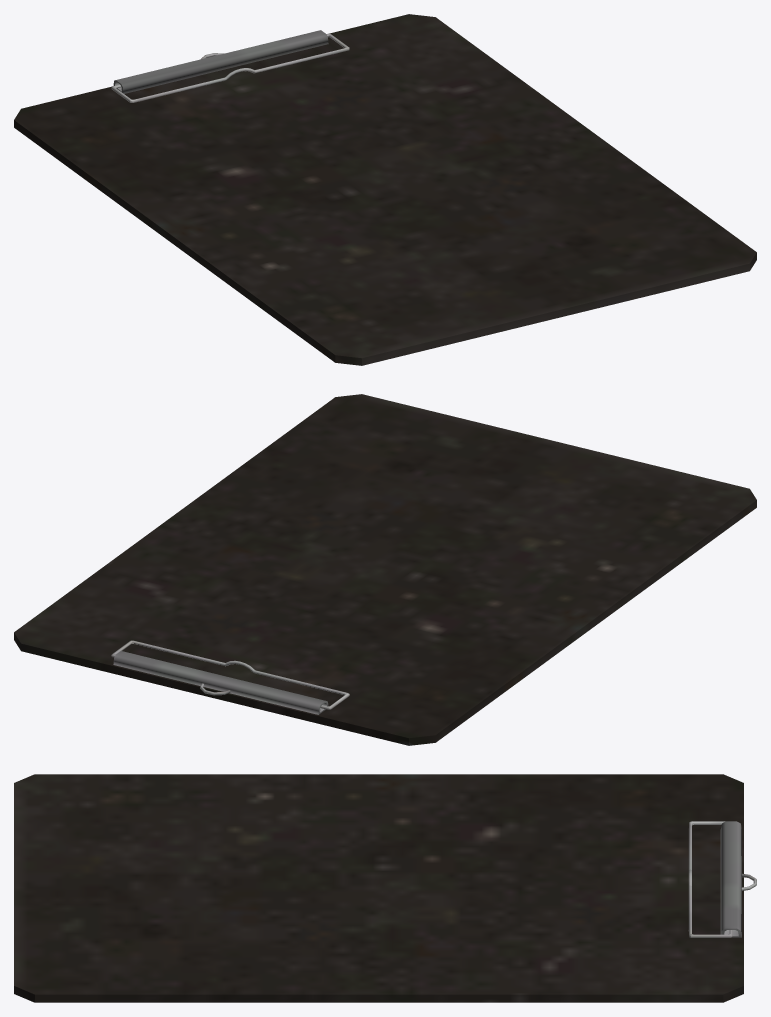
Rendered from 045_clipboard01a.fbx.
3 renders of one model, top to bottom at view 1: azimuth 30°, elevation 25°; view 2: azimuth 150°, elevation 25°; view 3: azimuth 270°, elevation 25°, orthographic. The views are drawn at different scales.
Parts seen in each view (by area): view 1: LOD_1_Group_0_Sub_1__sm36_045_Clipboard01A_A_Mat; view 2: LOD_1_Group_0_Sub_1__sm36_045_Clipboard01A_A_Mat; view 3: LOD_1_Group_0_Sub_1__sm36_045_Clipboard01A_A_Mat.
Boxes of the visible parts, x1,y1,x2,y2 form: LOD_1_Group_0_Sub_1__sm36_045_Clipboard01A_A_Mat: (14, 14, 756, 365); LOD_1_Group_0_Sub_1__sm36_045_Clipboard01A_A_Mat: (14, 394, 756, 745); LOD_1_Group_0_Sub_1__sm36_045_Clipboard01A_A_Mat: (14, 774, 756, 1002).
Bounding box in the file's own units: 0.3 × 0.0127 × 0.4274.
